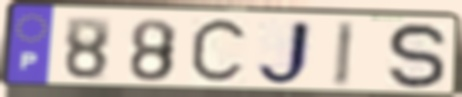8: (128, 17, 180, 83), (62, 15, 112, 82)
C: (187, 15, 252, 89)
I: (330, 19, 357, 89)
J: (254, 18, 315, 89)
S: (385, 21, 450, 92)
